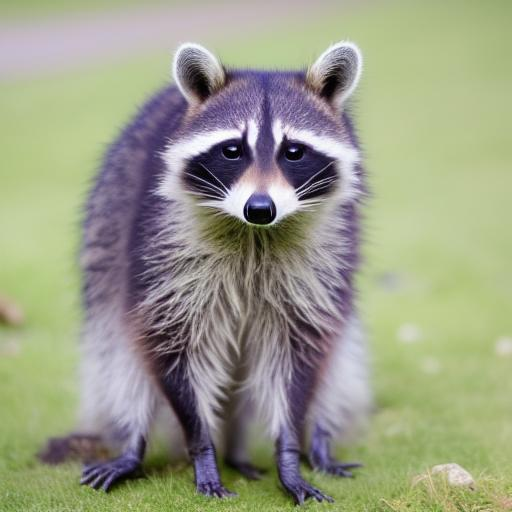raccoon: (59, 29, 388, 442)
